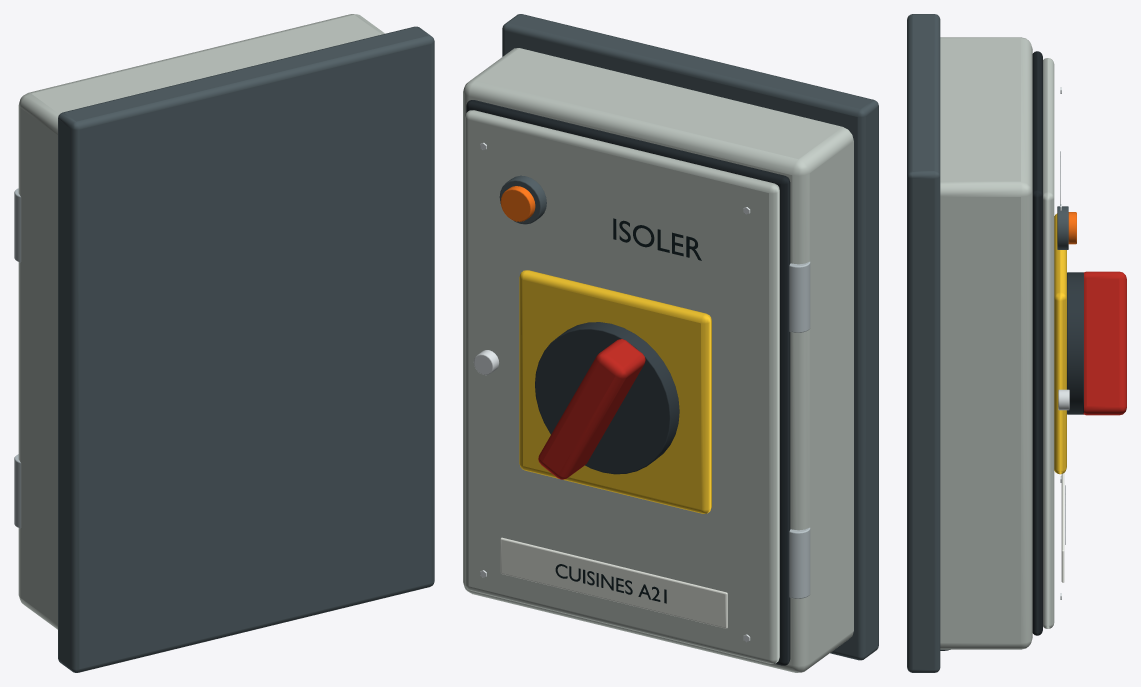
The model's file is utility_cutoff_panel.glb.
3 views of the same model, side by side, from view 1: azimuth 30°, elevation 25°; view 2: azimuth 150°, elevation 25°; view 3: azimuth 270°, elevation 25° (orthographic). The views are drawn at different scales.
Visible parts, largest first — view 1: utility_cutoff_panel_render_mesh; view 2: utility_cutoff_panel_render_mesh; view 3: utility_cutoff_panel_render_mesh.
Part boxes in pixels (x1,y1,x2,y2): utility_cutoff_panel_render_mesh: (14, 14, 434, 672); utility_cutoff_panel_render_mesh: (463, 14, 878, 672); utility_cutoff_panel_render_mesh: (907, 14, 1126, 672).
Bounding box in the file's own units: 0.4 × 0.58 × 0.2305.
